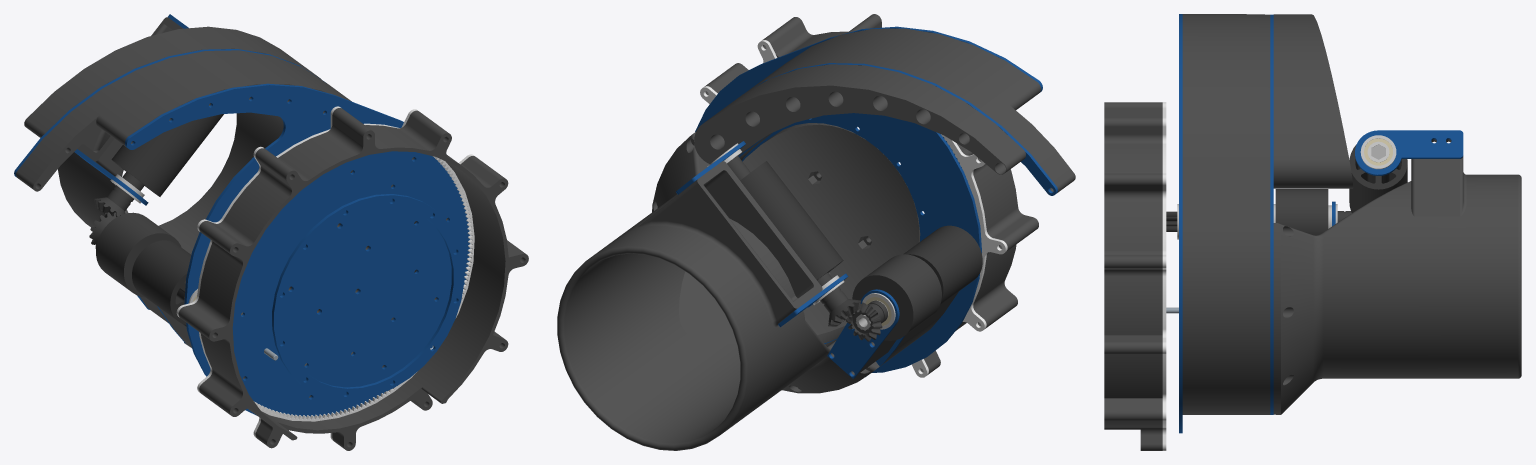
3 renders of one model, left to right at view 1: azimuth 30°, elevation 25°; view 2: azimuth 150°, elevation 25°; view 3: azimuth 270°, elevation 25°, orthographic. The views are drawn at different scales.
Visible parts, largest first — view 1: 311-C0-P001, 314-C0-P002, 311-C0-P010, 311-C0-P004, 324-C0-P001, 2" Thrifty Squish Wheel (45A, 1" Wide, 1/2" Hex Bore) (×9), 311-C0-P006, 1/2" Hex Bore Custom Spacer (2.25" OD,1.812" L), 314-C0-P001, 311-C0-P002, 15t Steel Bevel Gear (12 DP, 1/2" Hex Bore); view 2: 311-C0-P004, 311-C0-P003, 311-C0-P006, 311-C0-P001, 311-C0-P010, 2" Thrifty Squish Wheel (45A, 1" Wide, 1/2" Hex Bore) (×13), 314-C0-P002, 1/2" Hex Bore Custom Spacer (2.25" OD,1.812" L), 314-C0-P001, 311-C0-P009, 15t Steel Bevel Gear (12 DP, 1/2" Hex Bore) (×2), 311-C0-P002 (+1 smaller); view 3: 311-C0-P004, 311-C0-P011, 314-C0-P002, 311-C0-P010, 311-C0-P006, 311-C0-P005, 1/2" Hex Bore Custom Spacer (2.25" OD,1.812" L), 314-C0-P001, 311-C0-P001, 311-C0-P002, 2" Thrifty Squish Wheel (45A, 1" Wide, 1/2" Hex Bore), 1/2" Hex Bore Bearing (1.125" OD, 0.313" WD, Shielded, Flang.
Part boxes in pixels (box(x1,y1,x2,y2)): 311-C0-P001: box(125, 83, 470, 416); 314-C0-P002: box(178, 108, 528, 450); 311-C0-P010: box(16, 50, 351, 191); 311-C0-P004: box(58, 17, 352, 346); 324-C0-P001: box(272, 194, 464, 400); 2" Thrifty Squish Wheel (45A, 1" Wide, 1/2" Hex Bore) (×9): box(111, 129, 197, 324); 311-C0-P006: box(24, 26, 321, 137); 1/2" Hex Bore Custom Spacer (2.25" OD,1.812" L): box(96, 212, 181, 297); 314-C0-P001: box(176, 106, 474, 440); 311-C0-P002: box(14, 49, 325, 343); 15t Steel Bevel Gear (12 DP, 1/2" Hex Bore): box(94, 189, 130, 216); 311-C0-P004: box(557, 132, 879, 450); 311-C0-P003: box(679, 123, 920, 343); 311-C0-P006: box(694, 64, 1025, 174); 311-C0-P001: box(695, 26, 1042, 372); 311-C0-P010: box(745, 28, 1075, 192); 2" Thrifty Squish Wheel (45A, 1" Wide, 1/2" Hex Bore) (×13): box(740, 161, 982, 304); 314-C0-P002: box(705, 14, 1038, 374); 1/2" Hex Bore Custom Spacer (2.25" OD,1.812" L): box(852, 254, 941, 340); 314-C0-P001: box(700, 40, 1007, 377); 311-C0-P009: box(827, 289, 899, 378); 15t Steel Bevel Gear (12 DP, 1/2" Hex Bore) (×2): box(823, 290, 883, 341); 311-C0-P002: box(738, 63, 1057, 376); 311-C0-P004: box(1273, 139, 1521, 414); 311-C0-P011: box(1182, 167, 1270, 414); 314-C0-P002: box(1104, 102, 1162, 450); 311-C0-P010: box(1182, 14, 1270, 166); 311-C0-P006: box(1273, 14, 1353, 188); 311-C0-P005: box(1355, 130, 1463, 175); 1/2" Hex Bore Custom Spacer (2.25" OD,1.812" L): box(1275, 189, 1328, 235); 314-C0-P001: box(1162, 102, 1166, 450); 311-C0-P001: box(1179, 14, 1182, 433); 311-C0-P002: box(1270, 14, 1273, 414); 2" Thrifty Squish Wheel (45A, 1" Wide, 1/2" Hex Bore): box(1349, 144, 1407, 194); 1/2" Hex Bore Bearing (1.125" OD, 0.313" WD, Shielded, Flang: box(1360, 135, 1396, 169).
Size of the model in its own units: 0.4058 by 0.3376 by 0.3635.
